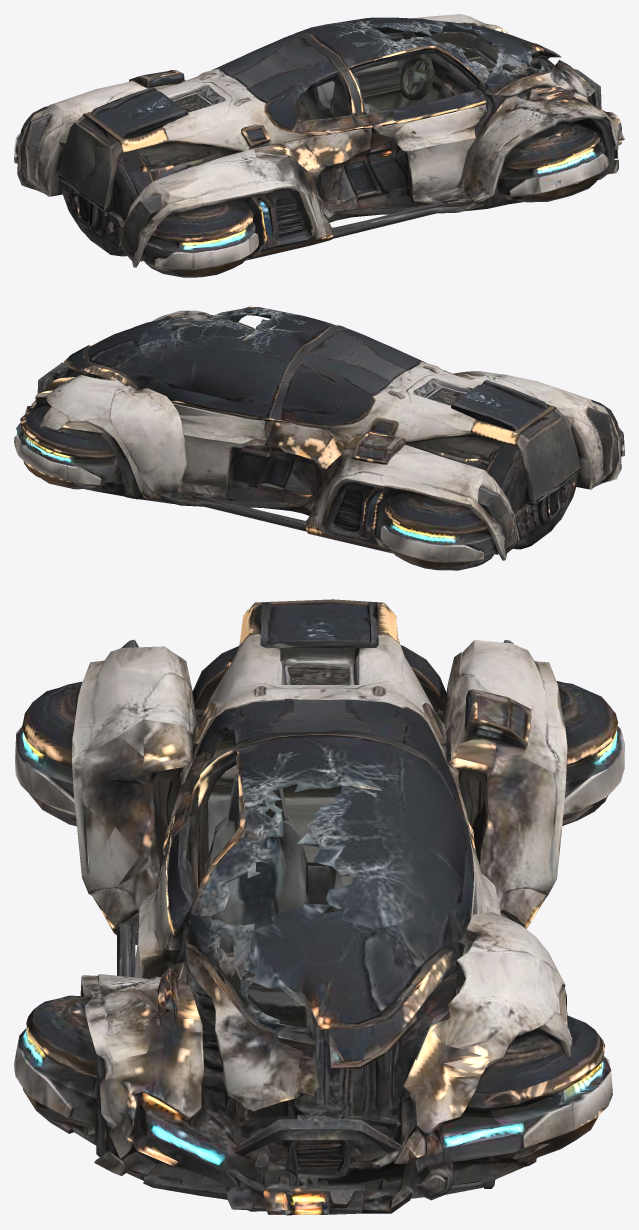
The model's file is wreck_car.glb.
The picture shows the model from 3 angles, top to bottom: view 1: azimuth 30°, elevation 25°; view 2: azimuth 150°, elevation 25°; view 3: azimuth 270°, elevation 25°; orthographic projection. The views are drawn at different scales.
Parts seen in each view (by area): view 1: wreck_car; view 2: wreck_car; view 3: wreck_car.
Boxes of the visible parts, x1,y1,x2,y2 form: wreck_car: [14, 14, 624, 277]; wreck_car: [14, 306, 624, 570]; wreck_car: [14, 599, 624, 1215].
Size of the model in its own units: 5.01 by 1.39 by 2.95.
1 material, 1 textured.
